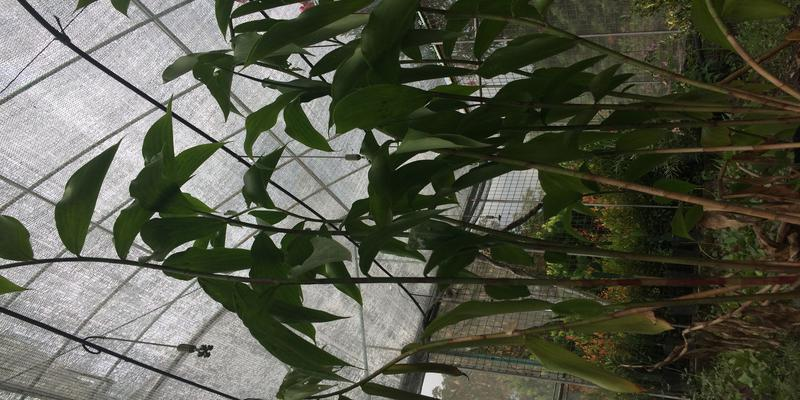Insulin: (191, 14, 769, 333)
